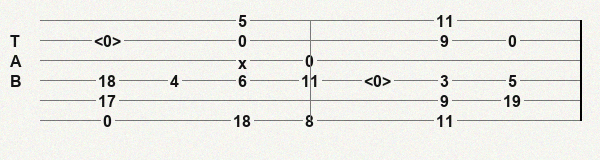0: (103, 112, 116, 128), (238, 32, 251, 48), (305, 52, 318, 68), (508, 32, 521, 48)
11: (301, 72, 323, 88), (436, 12, 458, 28), (436, 112, 458, 128)
17: (98, 92, 120, 108)
18: (98, 72, 120, 88), (233, 112, 255, 128)
19: (503, 92, 525, 108)
3: (440, 72, 453, 88)
4: (170, 72, 183, 88)
5: (238, 12, 251, 28), (508, 72, 521, 88)
6: (238, 72, 251, 88)
8: (305, 112, 318, 128)
9: (440, 92, 453, 108), (440, 32, 453, 48)
harmonic: (94, 32, 125, 48), (364, 72, 395, 88)
x: (238, 54, 251, 67)
